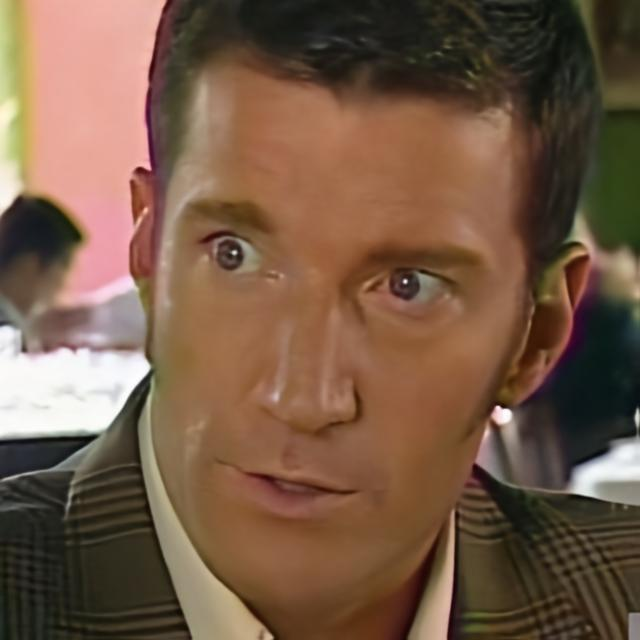surprise: (150, 43, 524, 614)
